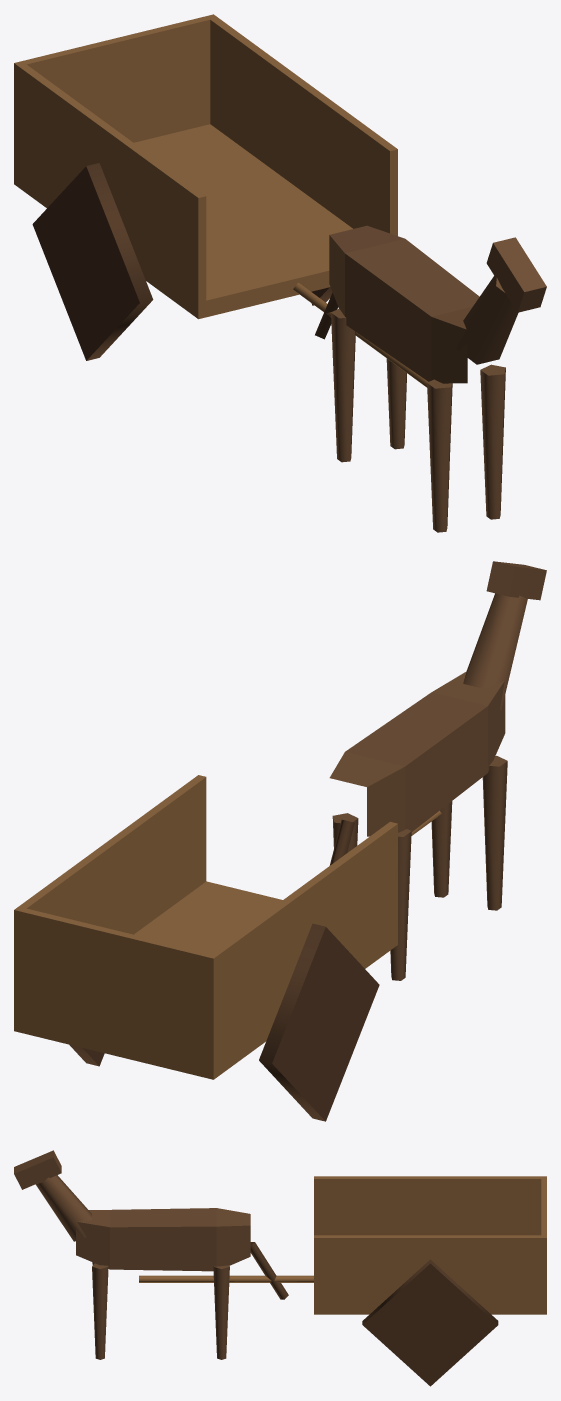
Rendered from veh_ground_cart_a03_lod2.glb.
The picture shows the model from 3 angles, top to bottom: view 1: azimuth 30°, elevation 25°; view 2: azimuth 150°, elevation 25°; view 3: azimuth 270°, elevation 25°; orthographic projection. The views are drawn at different scales.
Parts seen in each view (by area): view 1: body, animal_0, wheel_0; view 2: body, animal_0, wheel_0; view 3: body, animal_0, wheel_1.
Boxes of the visible parts, x1,y1,x2,y2 form: body: (14,14,428,387); animal_0: (315,225,546,532); wheel_0: (32,163,153,360); body: (14,775,441,1079); animal_0: (329,561,546,980); wheel_0: (259,923,379,1121); body: (139,1176,546,1314); animal_0: (14,1150,288,1359); wheel_1: (362,1259,498,1386).
Bounding box in the file's own units: 1.8 × 2.23 × 5.49.
